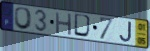3: (34, 9, 48, 33)
7: (99, 16, 115, 41)
D: (73, 12, 93, 40)
H: (55, 11, 73, 37)
J: (119, 21, 133, 43)
O: (13, 6, 33, 31)
